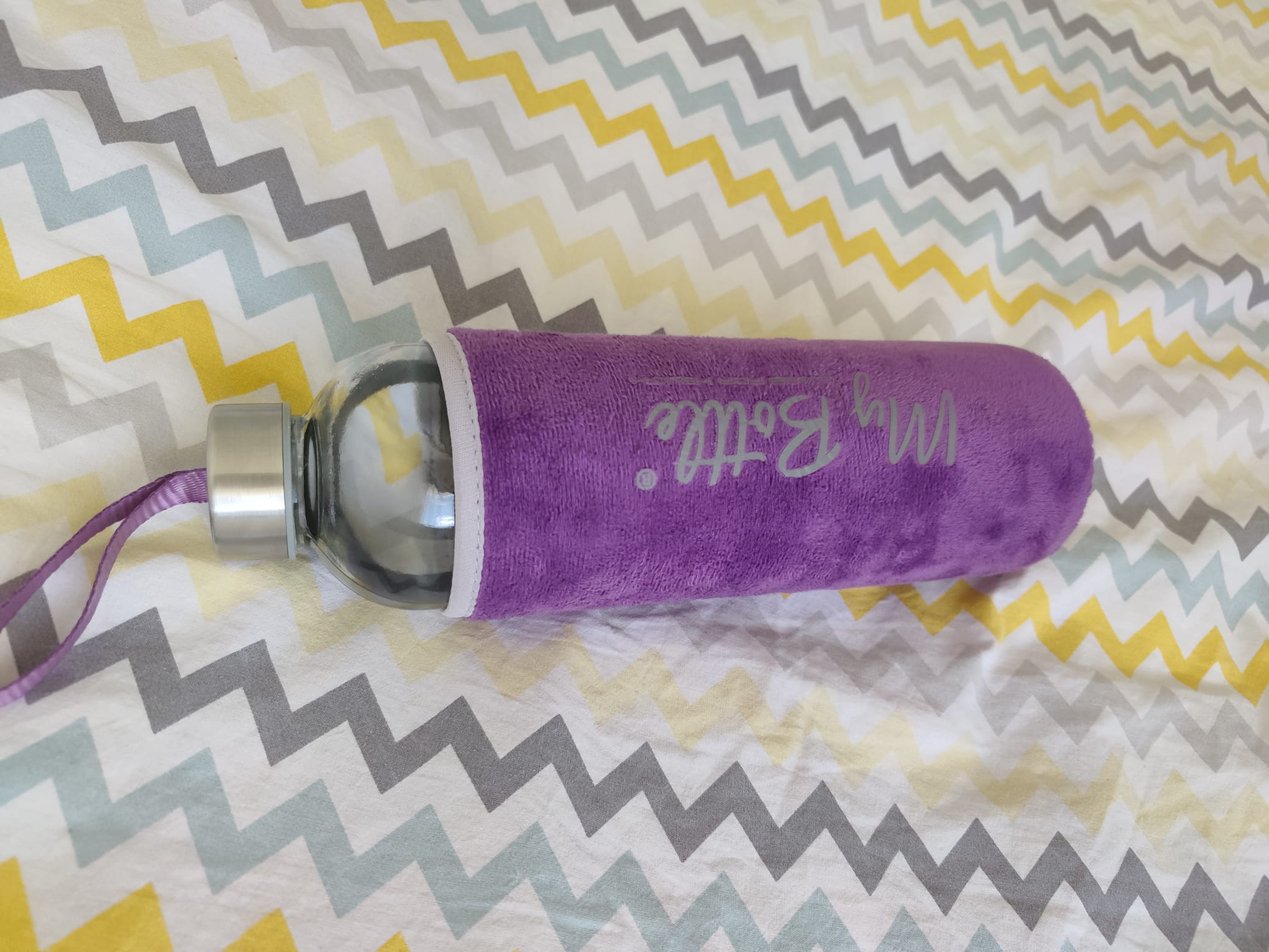su_sisesi: (4, 316, 1104, 693), (2, 311, 1101, 686)
